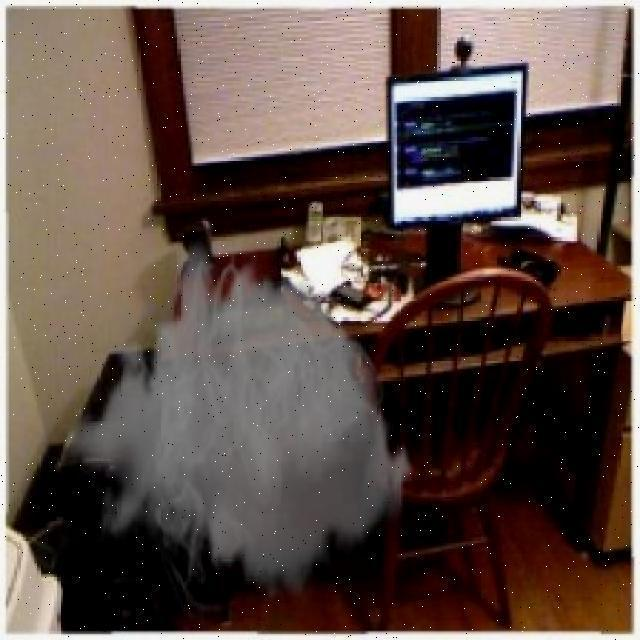smoke: (65, 259, 424, 598)
